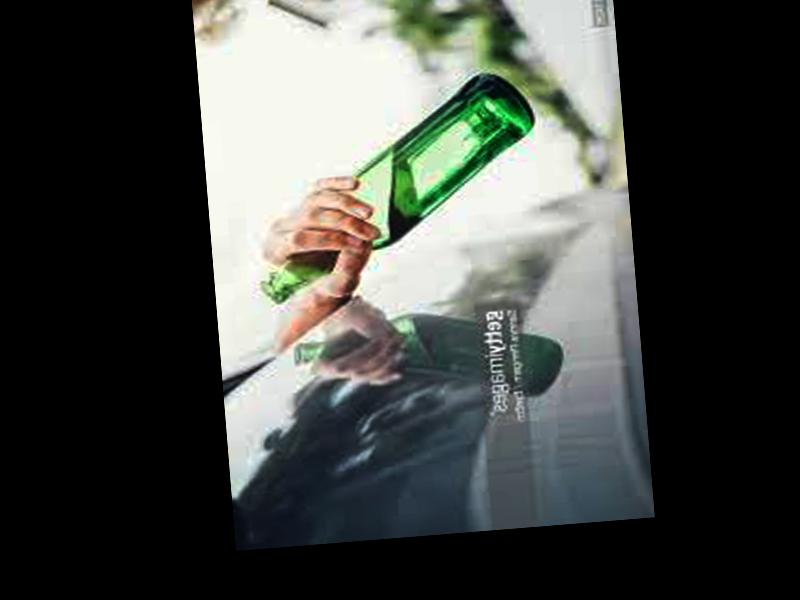Beer: (248, 71, 548, 307)
